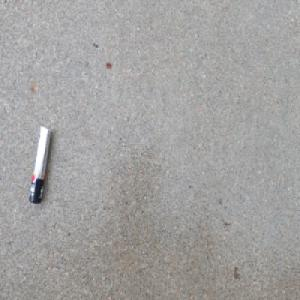Battery: (27, 123, 52, 206)
